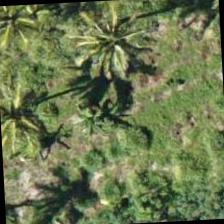Kelapa_Sawit: (61, 4, 156, 98), (0, 57, 51, 150), (0, 3, 55, 68)
